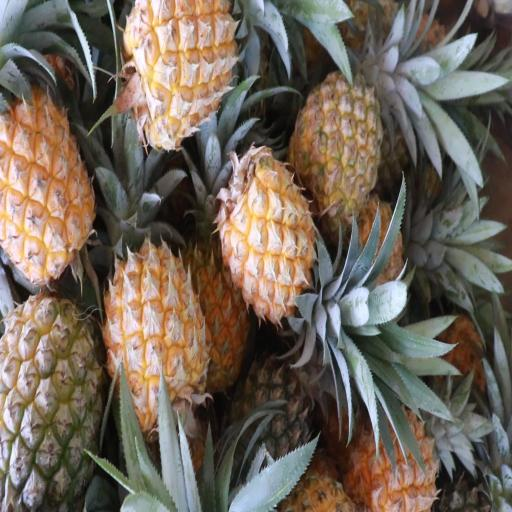------------------------------: (0, 297, 102, 512), (291, 72, 381, 216)
Pineapple - v8 v1: (106, 246, 206, 422), (0, 92, 94, 279), (220, 148, 318, 324), (122, 0, 237, 130), (351, 397, 441, 512), (184, 237, 249, 391)
